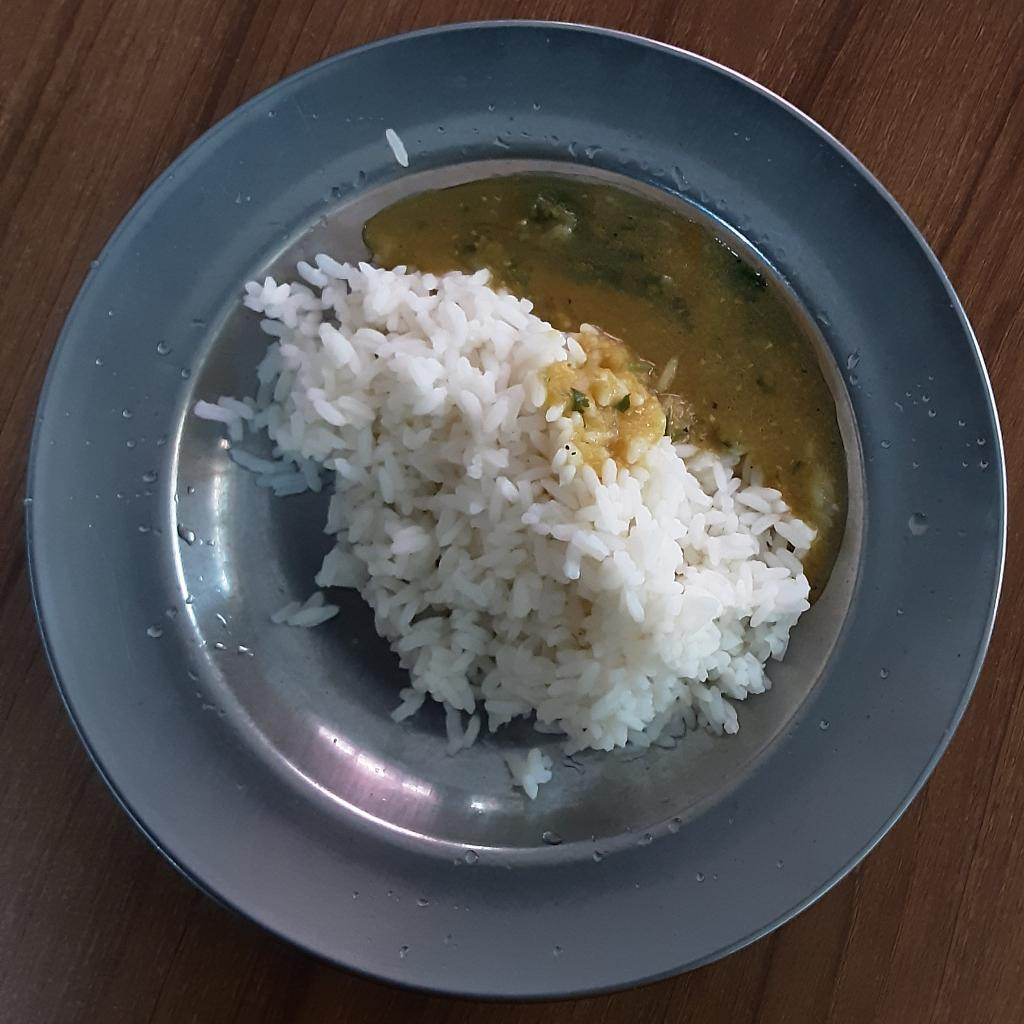daal: (359, 169, 849, 609)
rice: (199, 257, 819, 760), (266, 591, 343, 626)
